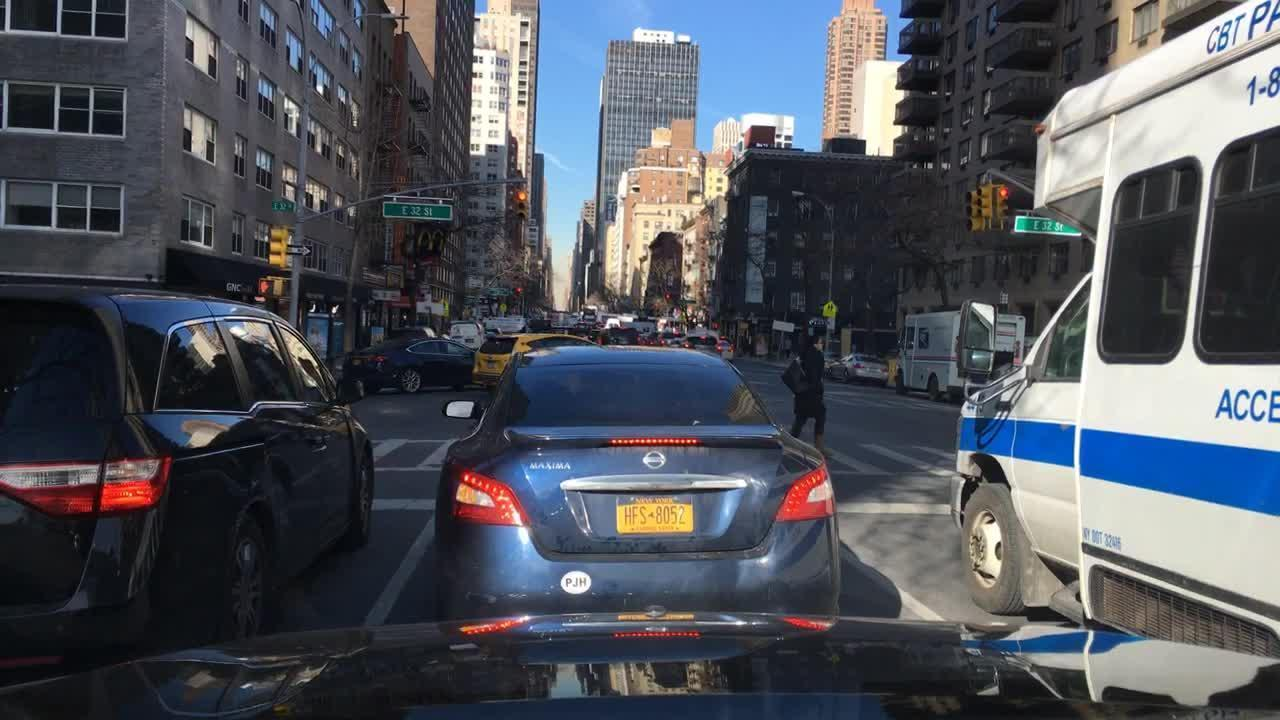Nissan: (629, 442, 673, 476)
